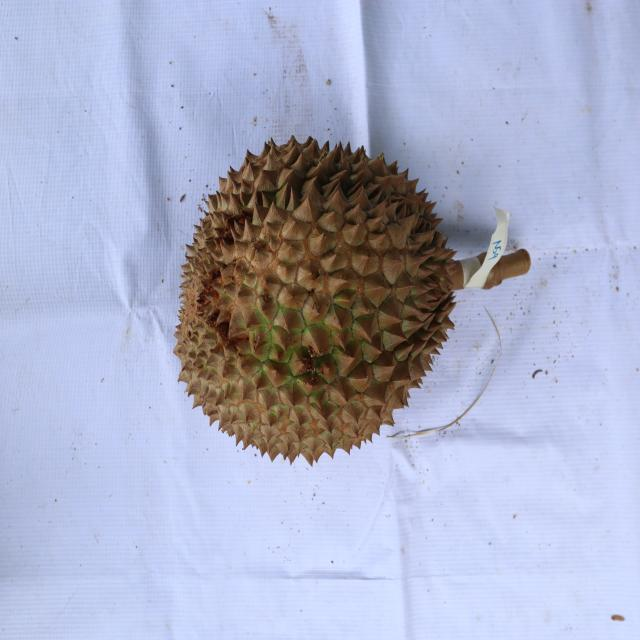mature: (171, 135, 459, 471)
